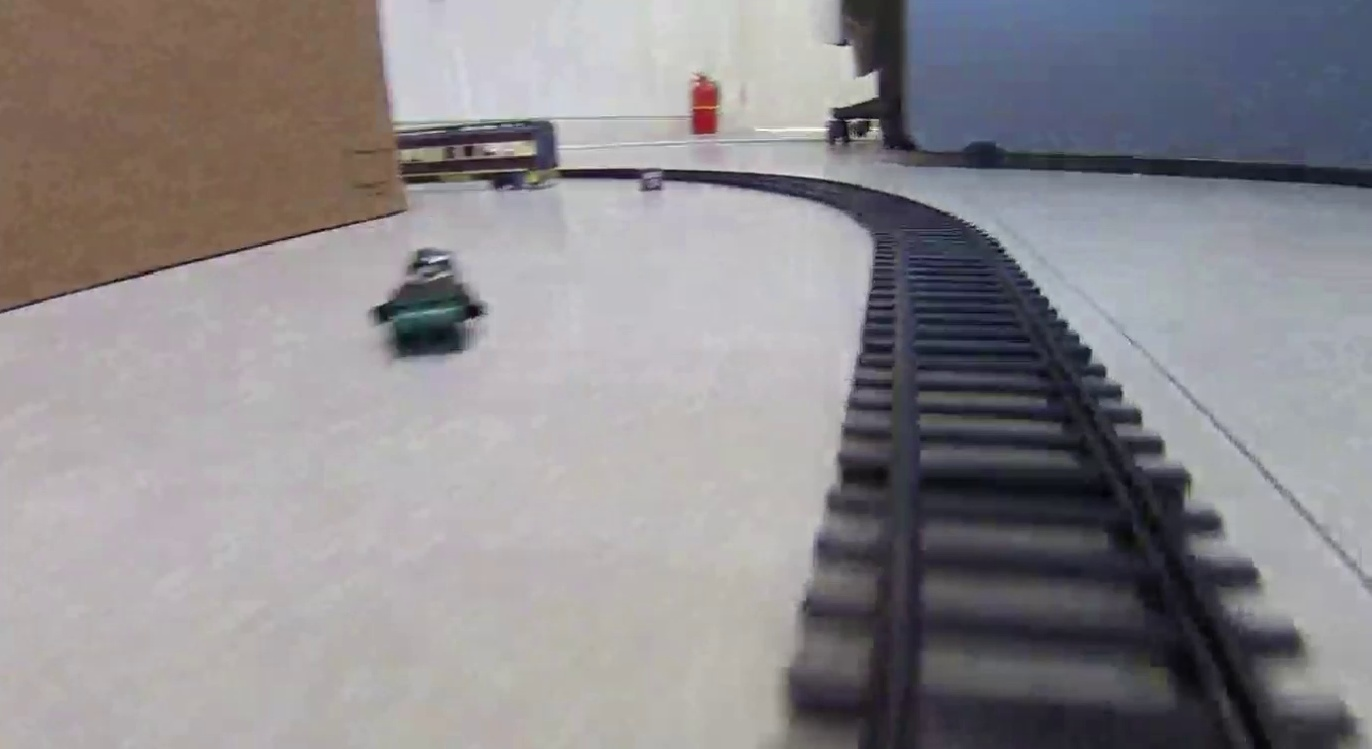people: (366, 244, 491, 357)
